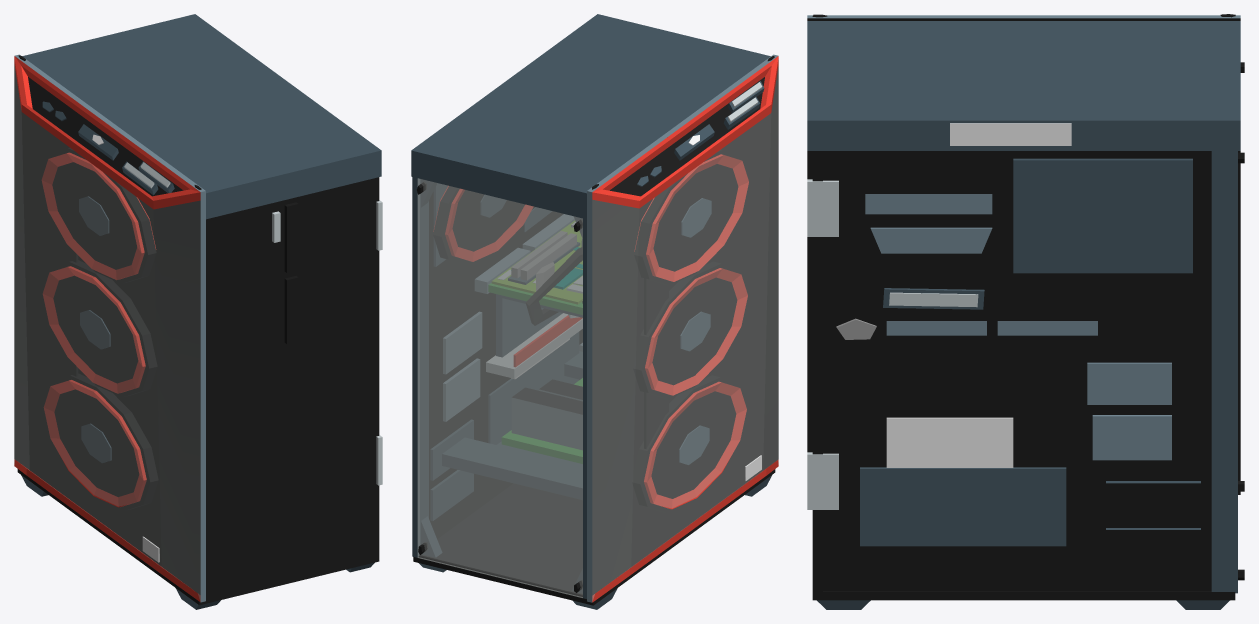
The picture shows the model from 3 angles, left to right: view 1: azimuth 30°, elevation 25°; view 2: azimuth 150°, elevation 25°; view 3: azimuth 270°, elevation 25°; orthographic projection. The views are drawn at different scales.
Visible parts, largest first — view 1: group549538436, group1851977708, group997898928, group706968164, group614062749, group1403192981, group1882511964, group358629412, group1874588551, group377627692, group1050079147, group1247630253 (+1 smaller); view 2: group549538436, group1867655503, group997898928, group706968164, group358629412, group1179872976, group614062749, group1403192981, group1882511964, group2083473735, group1207655705, group1586564780 (+23 smaller); view 3: group1179872976, group706968164, group335831164, group1800416953, group2083473735, group1033487155, group997898928, group358629412, group761930540, group676590036, group1851977708, group172225094 (+10 smaller).
Boxes of the visible parts, <box> form: group549538436: <box>14,56,200,600</box>; group1851977708: <box>206,177,379,596</box>; group997898928: <box>14,54,205,602</box>; group706968164: <box>22,14,381,219</box>; group614062749: <box>42,260,157,397</box>; group1403192981: <box>43,373,158,510</box>; group1882511964: <box>41,148,156,283</box>; group358629412: <box>17,469,379,605</box>; group1874588551: <box>14,459,200,601</box>; group377627692: <box>53,221,78,380</box>; group1050079147: <box>284,202,298,272</box>; group1247630253: <box>284,276,298,344</box>; group549538436: <box>592,56,778,600</box>; group1867655503: <box>417,178,582,597</box>; group997898928: <box>587,54,778,602</box>; group706968164: <box>411,14,770,219</box>; group358629412: <box>413,469,775,605</box>; group1179872976: <box>429,192,582,538</box>; group614062749: <box>633,261,748,398</box>; group1403192981: <box>632,375,746,512</box>; group1882511964: <box>634,149,749,285</box>; group2083473735: <box>412,177,428,557</box>; group1207655705: <box>433,186,533,265</box>; group1586564780: <box>442,437,582,499</box>; group1179872976: <box>823,151,1211,591</box>; group706968164: <box>807,21,1240,150</box>; group335831164: <box>1013,158,1192,273</box>; group1800416953: <box>860,467,1066,546</box>; group2083473735: <box>1211,151,1237,593</box>; group1033487155: <box>886,417,1013,467</box>; group997898928: <box>807,15,1240,494</box>; group358629412: <box>812,591,1235,600</box>; group761930540: <box>1092,415,1171,460</box>; group676590036: <box>1087,362,1171,404</box>; group1851977708: <box>812,151,822,591</box>; group172225094: <box>1106,481,1200,518</box>.
Bounding box in the file's own units: 0.2 × 0.4 × 0.32.
